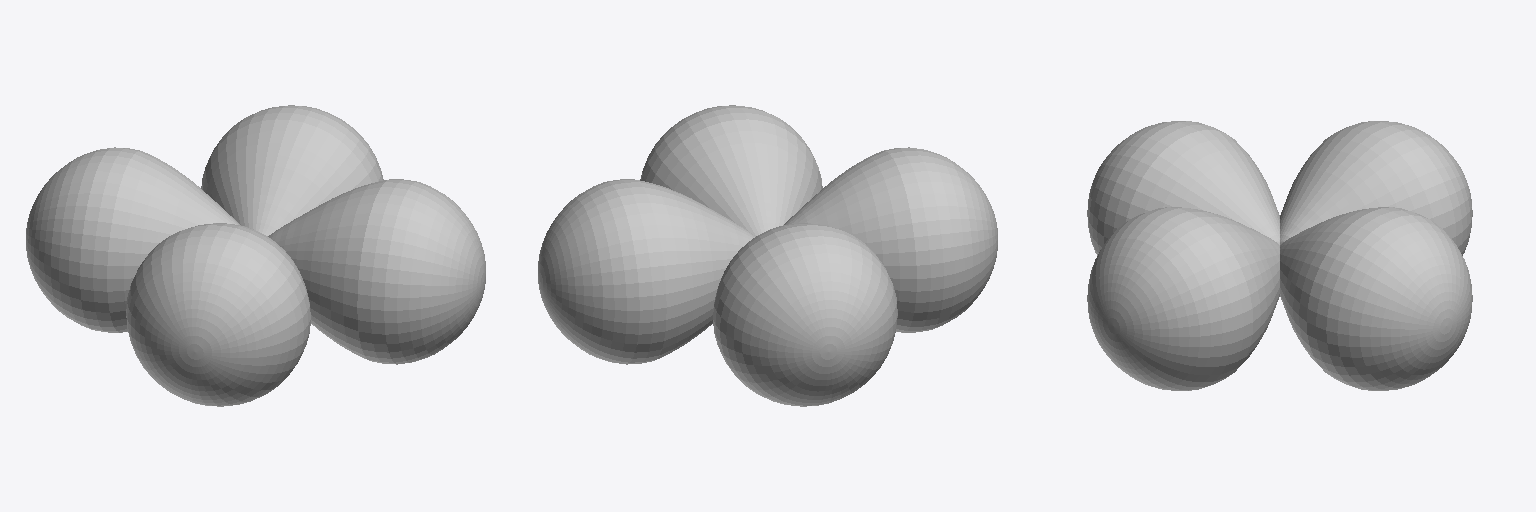
File: Dxz.obj
The picture shows the model from 3 angles: view 1: azimuth 30°, elevation 25°; view 2: azimuth 150°, elevation 25°; view 3: azimuth 270°, elevation 25°; orthographic projection.
Visible parts, largest first — view 1: polySurface23 Dgui; view 2: polySurface23 Dgui; view 3: polySurface23 Dgui.
Boxes of the visible parts, box(x1,y1,x2,y2) form: polySurface23 Dgui: box(26, 105, 485, 406); polySurface23 Dgui: box(538, 105, 997, 406); polySurface23 Dgui: box(1087, 121, 1472, 390).
Size of the model in its own units: 45.06 by 21.7 by 45.06.